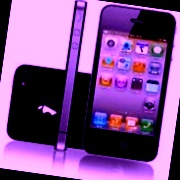iphone: (2, 4, 99, 164), (92, 17, 126, 169)
